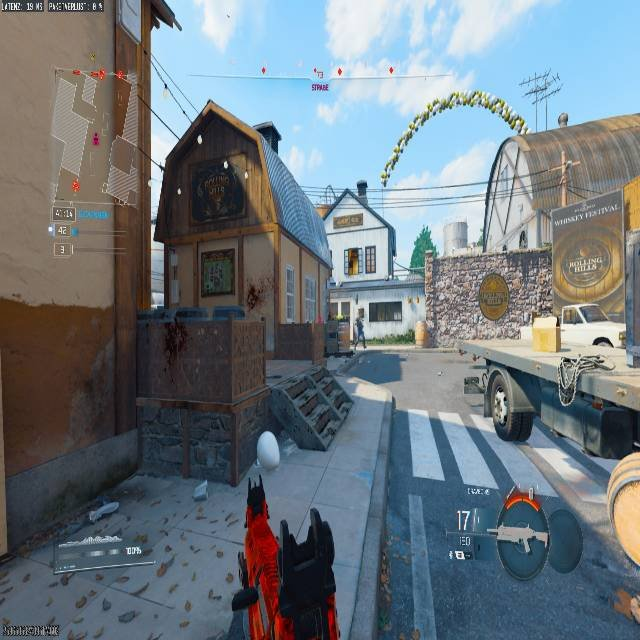player: (353, 312, 367, 350)
